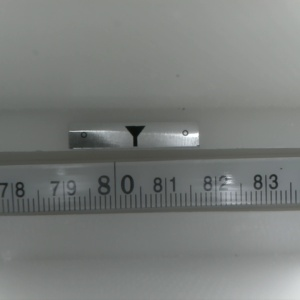0: (120, 175, 135, 194)
1: (168, 176, 175, 192)
2: (220, 175, 231, 189)
3: (268, 174, 278, 189)
7: (50, 181, 60, 196), (0, 183, 9, 198)
8: (97, 175, 110, 195), (152, 177, 162, 192), (252, 174, 262, 189), (15, 182, 25, 197), (203, 176, 212, 191)
9: (66, 180, 76, 196)
finger: (122, 126, 146, 148)
